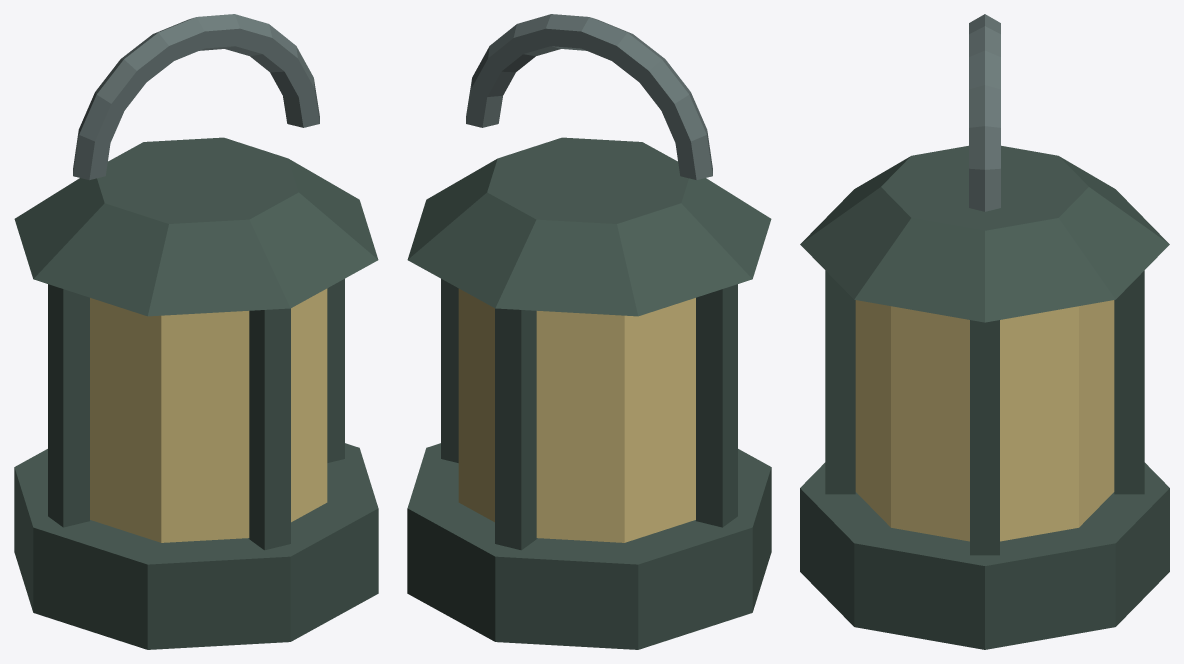
Rendered from qc_lantern.obj.
3 renders of one model, left to right at view 1: azimuth 30°, elevation 25°; view 2: azimuth 150°, elevation 25°; view 3: azimuth 270°, elevation 25°, orthographic.
Parts seen in each view (by area): view 1: qc_lantern; view 2: qc_lantern; view 3: qc_lantern.
Part boxes in pixels (x1,y1,x2,y2): qc_lantern: (14,14,378,649); qc_lantern: (407,14,771,649); qc_lantern: (800,14,1169,649).
Bounding box in the file's own units: 0.32 × 0.521 × 0.32.
